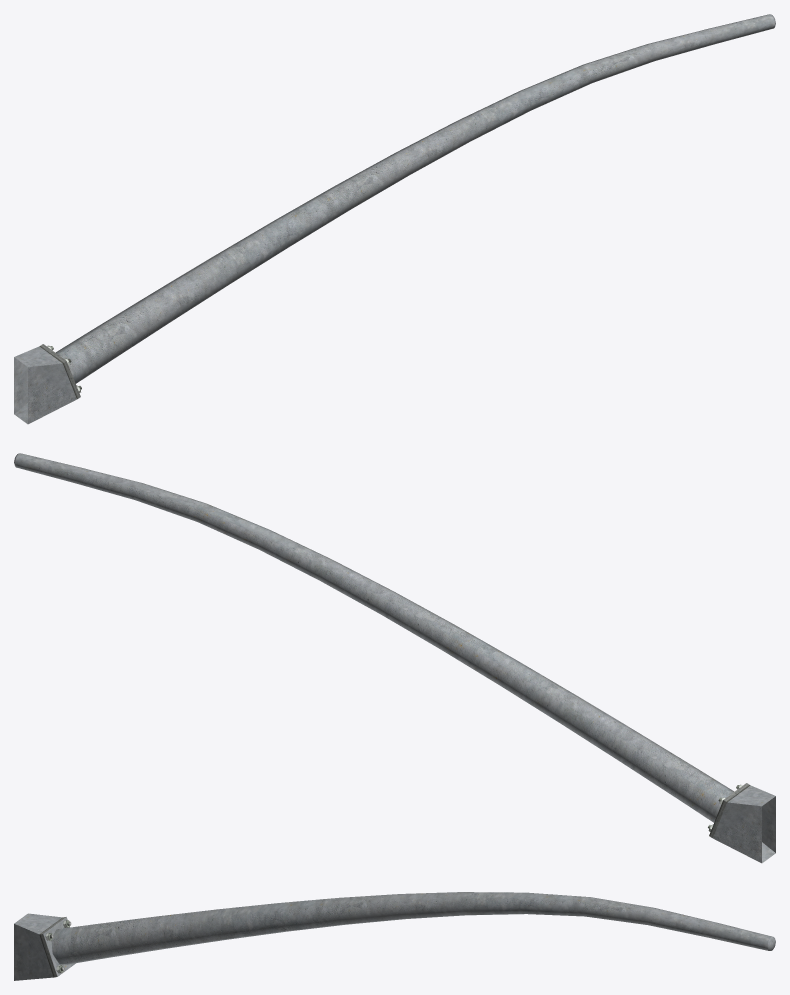
The model's file is Signal_MastArm_15ft.fbx.
The picture shows the model from 3 angles, top to bottom: view 1: azimuth 30°, elevation 25°; view 2: azimuth 150°, elevation 25°; view 3: azimuth 330°, elevation 25°; orthographic projection.
Parts seen in each view (by area): view 1: signal_mast_arm_15_mesh; view 2: signal_mast_arm_15_mesh; view 3: signal_mast_arm_15_mesh.
Boxes of the visible parts, x1=… form: signal_mast_arm_15_mesh: x1=14, y1=14, x2=775, y2=424; signal_mast_arm_15_mesh: x1=14, y1=453, x2=775, y2=863; signal_mast_arm_15_mesh: x1=14, y1=892, x2=775, y2=980.
Bounding box in the file's own units: 473 × 25.4 × 133.
1 material, 1 textured.
